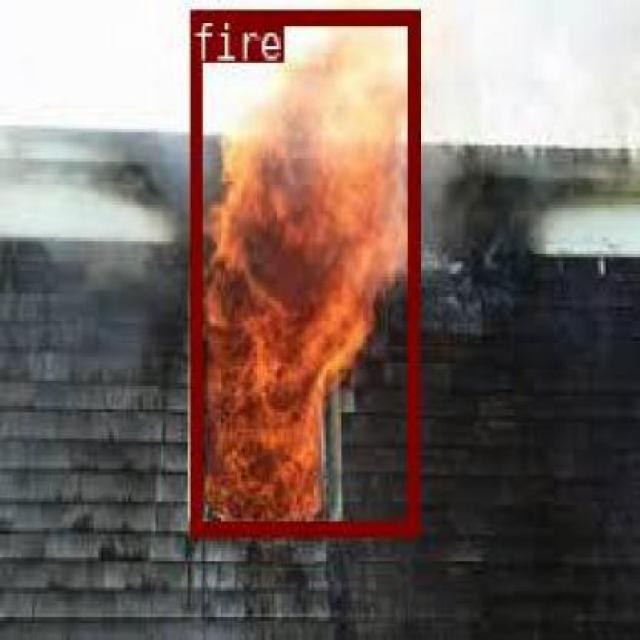Fire: (190, 7, 416, 533)
